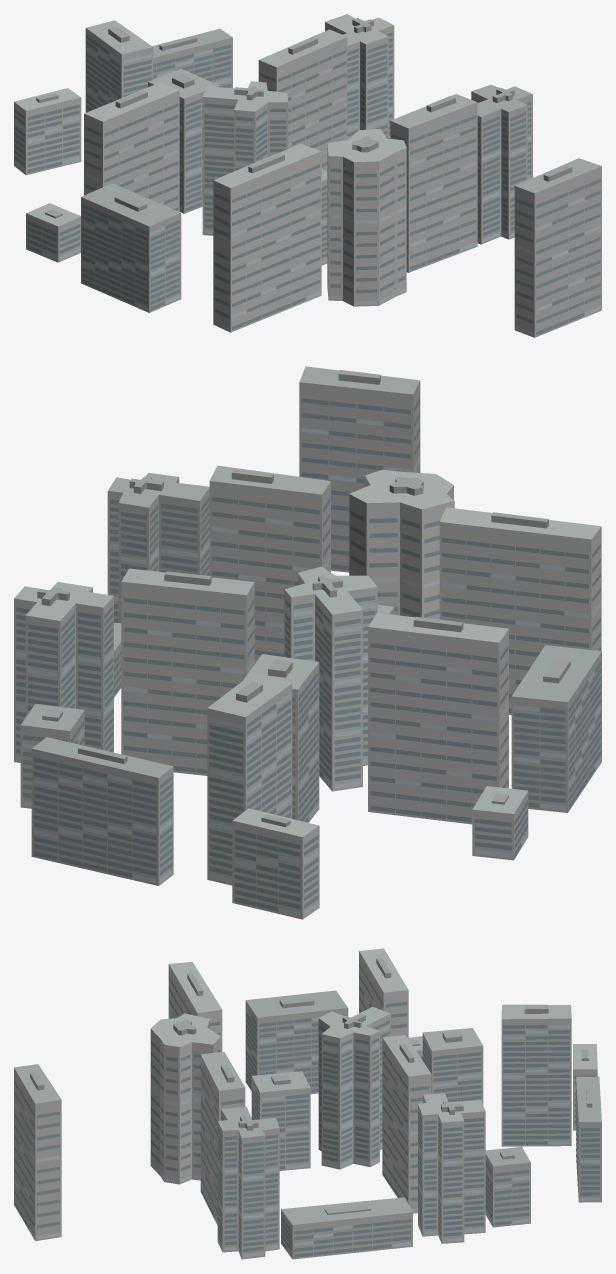
Rendered from apt-a14272308.glb.
The picture shows the model from 3 angles, top to bottom: view 1: azimuth 30°, elevation 25°; view 2: azimuth 150°, elevation 25°; view 3: azimuth 270°, elevation 25°; orthographic projection. The views are drawn at different scales.
Visible parts, largest first — view 1: apt-a14272308; view 2: apt-a14272308; view 3: apt-a14272308.
Part boxes in pixels (box(x1,y1,x2,y2)): apt-a14272308: box(14, 14, 601, 337); apt-a14272308: box(14, 366, 601, 919); apt-a14272308: box(14, 948, 601, 1259).
Size of the model in its own units: 203 by 71 by 266.
